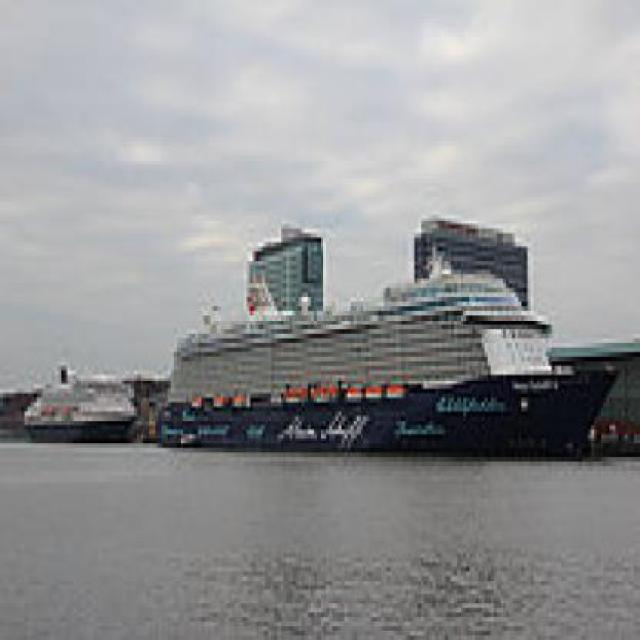cruise: (157, 253, 620, 471)
